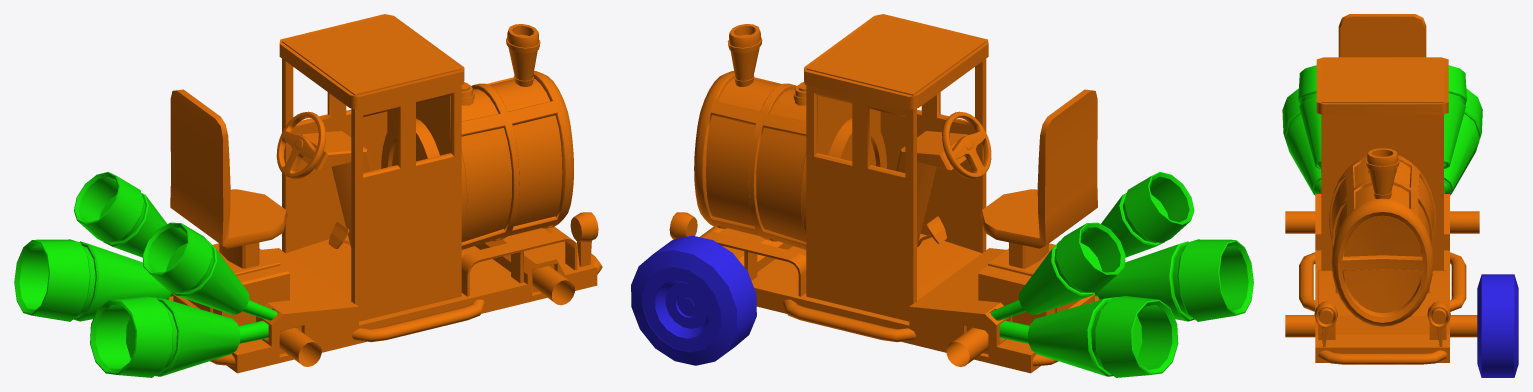
File: Train_Car_Mesh.fbx
3 views of the same model, side by side, from view 1: azimuth 30°, elevation 25°; view 2: azimuth 150°, elevation 25°; view 3: azimuth 270°, elevation 25° (orthographic). The views are drawn at different scales.
Visible parts, largest first — view 1: TC_Car.001; view 2: TC_Car.001, TC_FL_Wheel.001; view 3: TC_Car.001, TC_FL_Wheel.001.
Boxes of the visible parts, x1=… form: TC_Car.001: x1=14, y1=14, x2=602, y2=377; TC_Car.001: x1=669, y1=14, x2=1253, y2=377; TC_FL_Wheel.001: x1=631, y1=235, x2=756, y2=365; TC_Car.001: x1=1282, y1=14, x2=1482, y2=364; TC_FL_Wheel.001: x1=1477, y1=274, x2=1518, y2=377.
Bounding box in the file's own units: 141 × 294 × 156.
